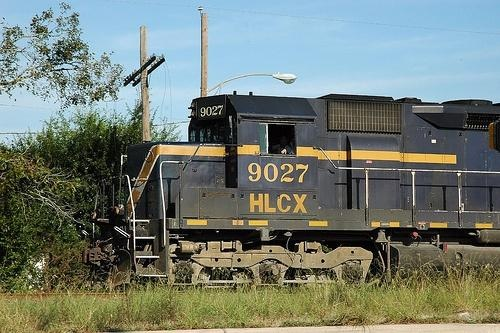train: (83, 89, 500, 289)
